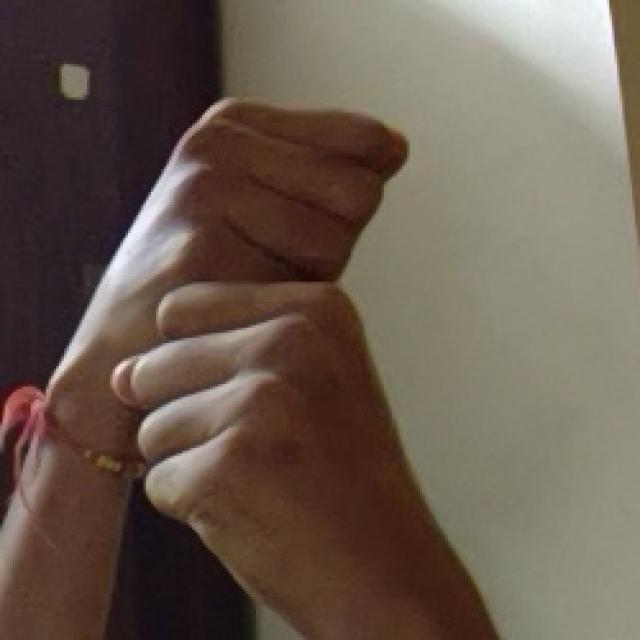Alphabet-g: (89, 74, 443, 640)
